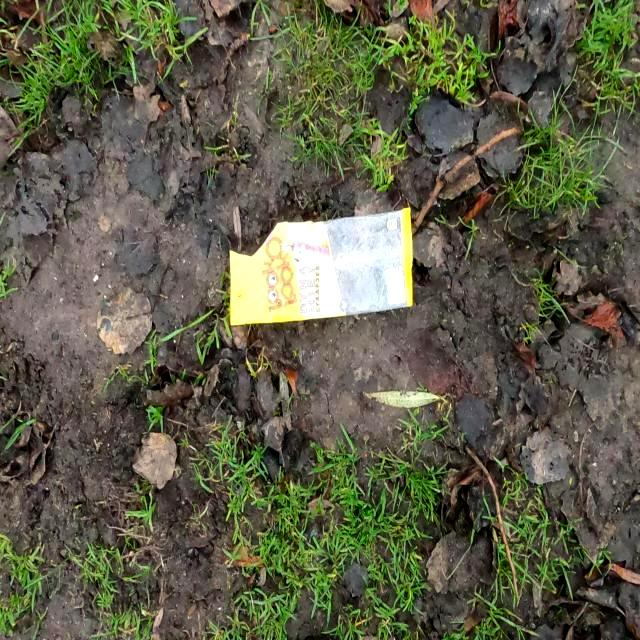Plastic: (228, 204, 414, 326)
